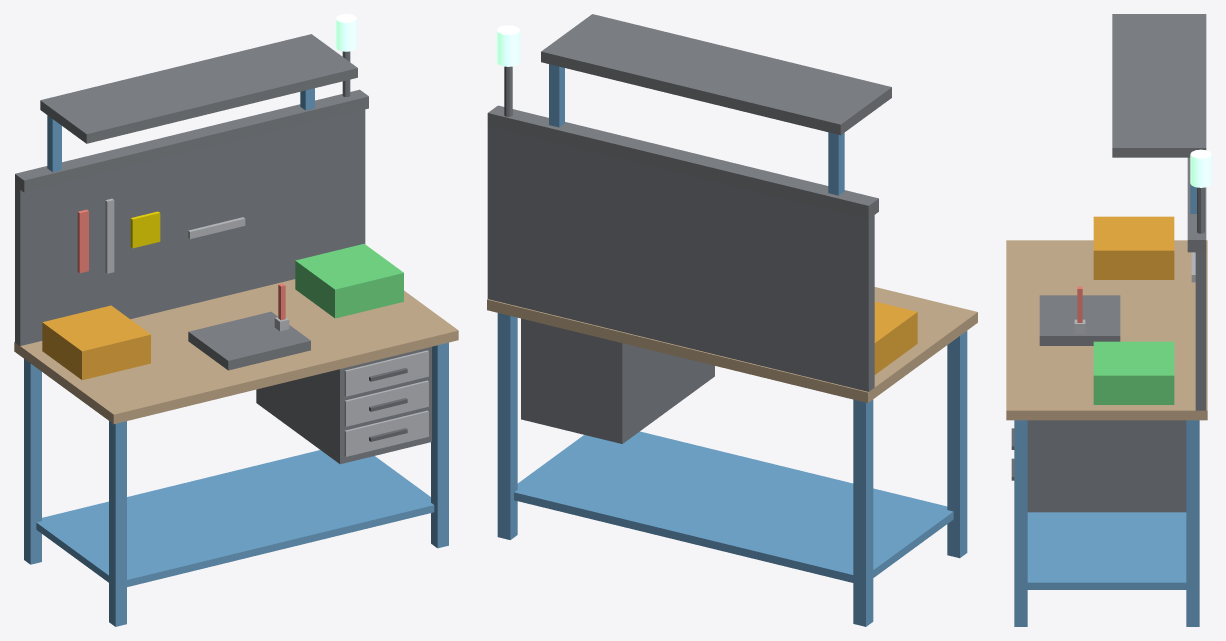
Rendered from posto.glb.
3 renders of one model, left to right at view 1: azimuth 30°, elevation 25°; view 2: azimuth 150°, elevation 25°; view 3: azimuth 270°, elevation 25°, orthographic. The views are drawn at different scales.
Parts seen in each view (by area): view 1: estrutura, luz; view 2: estrutura, luz; view 3: estrutura, luz, grampo.
Boxes of the visible parts, x1,y1,x2,y2 form: estrutura: [14, 34, 458, 626]; luz: [335, 14, 356, 51]; estrutura: [487, 14, 977, 626]; luz: [496, 25, 520, 66]; estrutura: [1006, 14, 1207, 626]; luz: [1190, 149, 1211, 187]; grampo: [1074, 286, 1085, 333].
Size of the model in its own units: 1.5 by 1.92 by 0.765.
